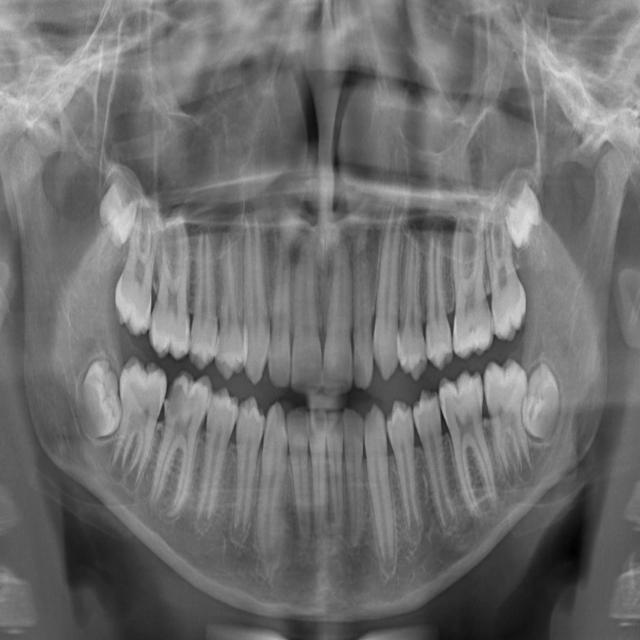3M ESPE Implant: (86, 157, 145, 255)
AGS Medikal Implant: (514, 465, 518, 479)
AMerOss Implant: (436, 366, 501, 526)
Amalgam filling: (109, 185, 167, 342)
Anthogyr Implant: (408, 384, 463, 540)
Bicon Implant: (385, 396, 424, 550)
BioHorizons Implant: (361, 397, 398, 580)
BioLife Implant: (342, 406, 363, 551)
Biomet 3i Implant: (326, 409, 344, 533)
Blue Sky Bio Implant: (308, 405, 329, 542)
Camlog Implant: (288, 404, 311, 565)
Caries: (353, 212, 373, 390)
Composite filling: (254, 396, 291, 577)
Cowellmedi Implant: (227, 393, 265, 551)
Crown: (183, 384, 242, 541)
DENTSPLY Implant: (147, 194, 197, 362)
Dentatus Implant: (139, 365, 217, 531)
Dentis Implant: (133, 448, 133, 449)
Dentium Implant: (78, 355, 118, 442)
Euroteknika Implant: (186, 214, 226, 371)
Filling: (208, 218, 242, 384)
Frontier Implant: (238, 185, 270, 390)
Hiossen Implant: (369, 186, 409, 387)
Implant: (284, 224, 322, 396)
Implant Direct: (265, 221, 298, 389)
Keystone Dental Implant: (323, 223, 352, 396)
MIS Implant: (397, 203, 428, 382)
Mandible: (418, 195, 452, 372)
Maxilla: (445, 190, 495, 365)
Megagen Implant: (480, 177, 532, 346)
Neodent Implant: (502, 164, 554, 258)
Neoss Implant: (528, 359, 564, 446)
